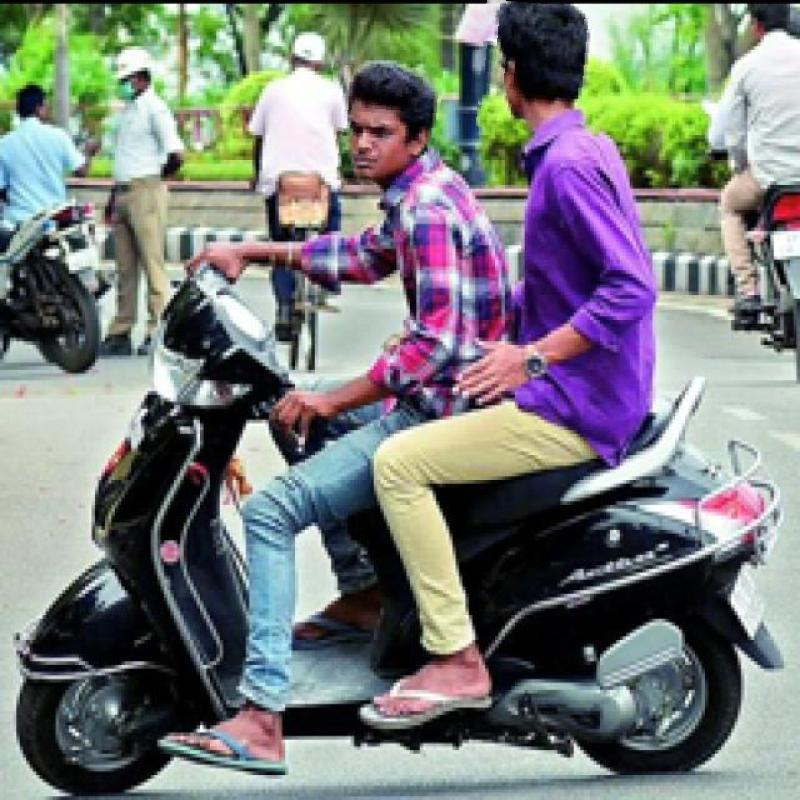nohelmet: (478, 1, 607, 135), (328, 65, 442, 186)
